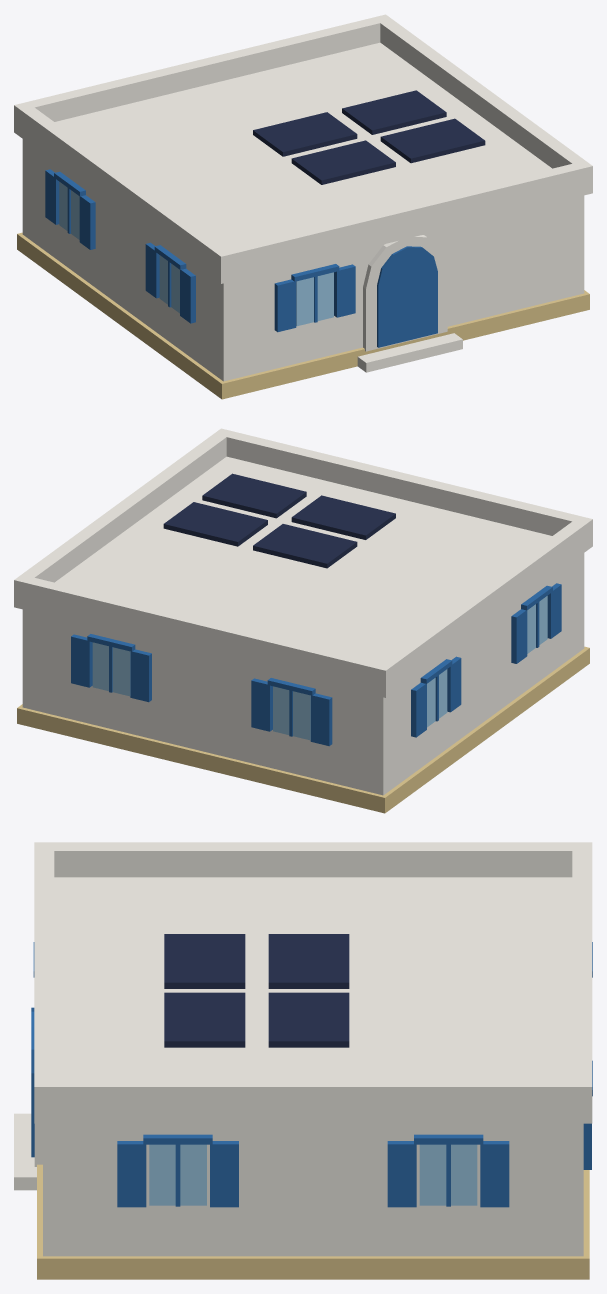
The model's file is house-1x1-1f-aegean-a-solar.glb.
3 renders of one model, top to bottom at view 1: azimuth 30°, elevation 25°; view 2: azimuth 150°, elevation 25°; view 3: azimuth 270°, elevation 25°, orthographic. The views are drawn at different scales.
Parts seen in each view (by area): view 1: house-1x1-1f-aegean-a-solar; view 2: house-1x1-1f-aegean-a-solar; view 3: house-1x1-1f-aegean-a-solar.
Boxes of the visible parts, x1,y1,x2,y2 form: house-1x1-1f-aegean-a-solar: [14, 14, 592, 399]; house-1x1-1f-aegean-a-solar: [14, 428, 592, 813]; house-1x1-1f-aegean-a-solar: [14, 842, 592, 1279].
Size of the model in its own units: 1 by 0.382 by 1.
Materials: 1 (1 with a texture image).
